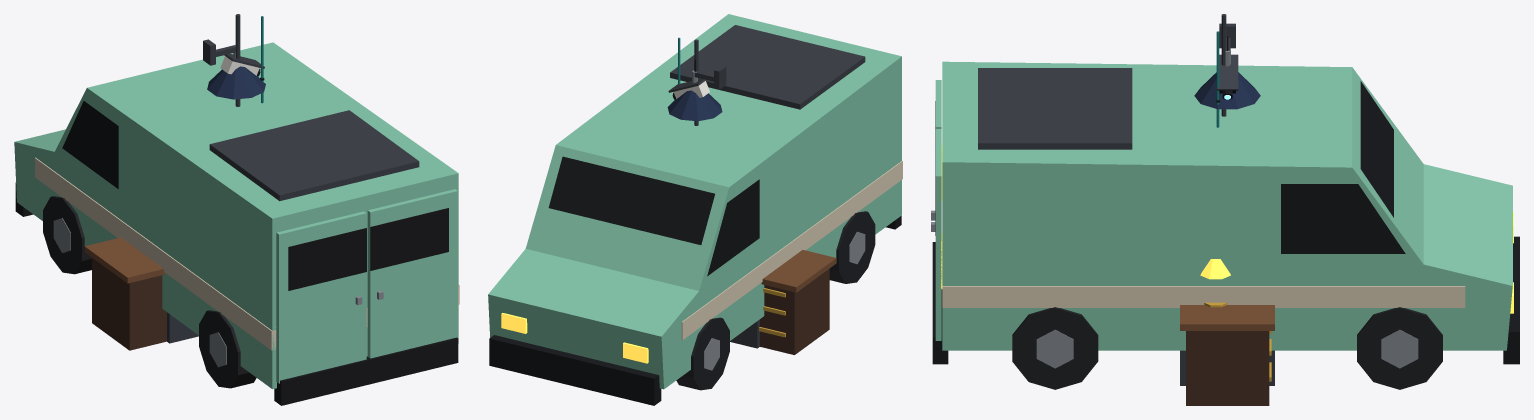
The model's file is props.glb.
3 views of the same model, side by side, from view 1: azimuth 30°, elevation 25°; view 2: azimuth 150°, elevation 25°; view 3: azimuth 270°, elevation 25° (orthographic). The views are drawn at different scales.
Visible parts, largest first — view 1: van, van_door_l, van_door_r, desk_office, lamp_ceiling, security_camera_head, security_desk, security_camera; view 2: van, desk_office, lamp_ceiling, security_camera_head, security_camera, security_desk; view 3: van, desk_office, van_door_r, lamp_ceiling, security_camera_head.
Part boxes in pixels (x1,y1,x2,y2): van: (14,42,459,405); van_door_l: (276,211,366,383); van_door_r: (367,189,457,358); desk_office: (84,237,166,350); lamp_ceiling: (207,66,265,99); security_camera_head: (220,54,264,76); security_desk: (167,312,198,343); security_camera: (203,39,235,65); van: (488,14,902,405); desk_office: (759,250,836,354); lamp_ceiling: (667,59,722,121); security_camera_head: (668,78,709,99); security_camera: (692,65,726,89); security_desk: (730,319,759,348); van: (932,61,1519,389); desk_office: (1180,259,1274,405); van_door_r: (931,129,941,340); lamp_ceiling: (1194,36,1260,109); security_camera_head: (1217,54,1238,99).
Bounding box in the file's own units: 2.8 × 3 × 4.96.
